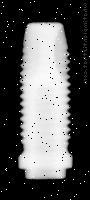Nobel Biocare: (18, 21, 73, 179)
